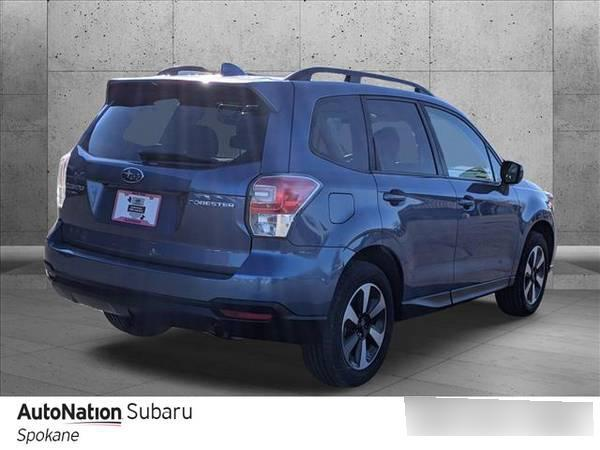Front_Fender: (513, 177, 557, 282)
Front_Right_Door: (447, 178, 524, 301)
Front_Right_Window: (422, 103, 514, 188)
Rear_Bumper: (44, 220, 356, 339)
Rear_Fender: (289, 95, 384, 250)
Rear_Right_Door: (374, 171, 460, 316)
Rear_Right_Window: (361, 97, 442, 177)
Rear_Windshield: (76, 78, 265, 162)
Right_Taillight: (246, 170, 323, 242)
Roof: (110, 72, 457, 177)
Tailgate: (54, 140, 262, 268)
Wheel: (309, 251, 403, 380), (499, 232, 554, 320)
